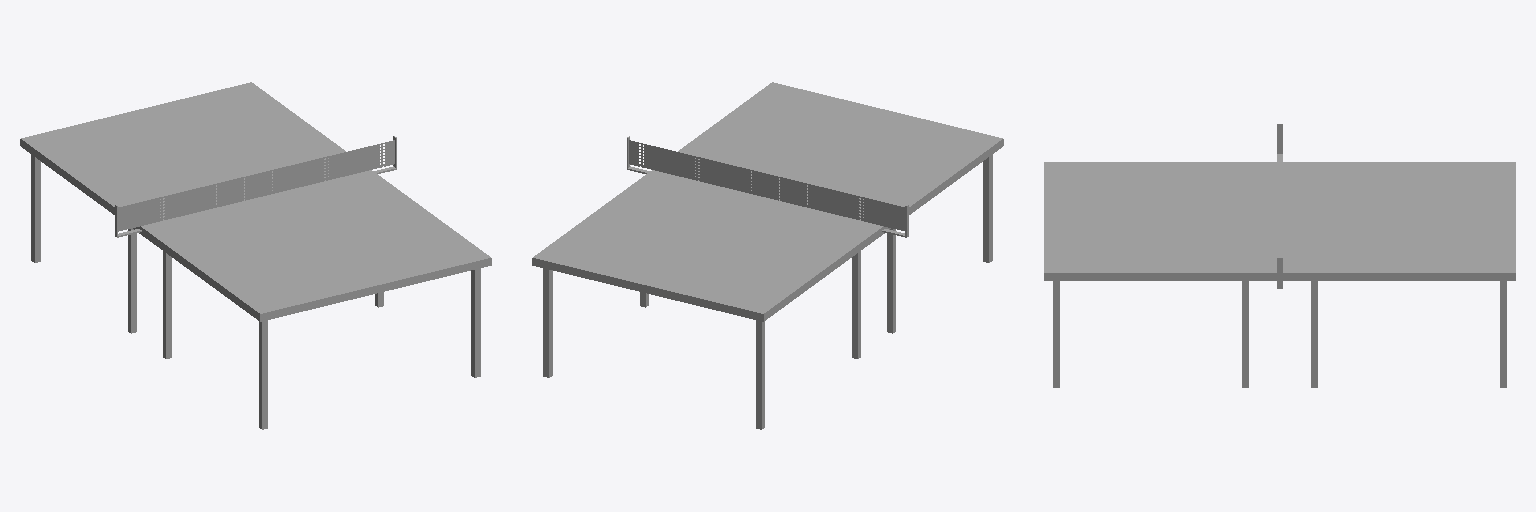
URDF robot description (table):
<?xml version="1.0" ?>
<robot name="table">
    <link name="baselink">
        <contact>
            <lateral_friction value="0.5"/>
            <spinning_friction value="0.6"/>
            <restitution value="0.95" />
        </contact>
        <inertial>
            <origin rpy="0 0 0" xyz="0 0 0"/>
            <mass value=".0"/>
            <inertia ixx="1" ixy="0" ixz="0" iyy="1" iyz="0" izz="1"/>
        </inertial>

        <visual>
            <origin rpy="0 0 0" xyz="0 0 0"/>
            <geometry>
                <mesh filename="meshes/table_tennis.obj" scale="1 1 1"/>
            </geometry>
            <material name="gray">
                <color rgba="0.7 0.7 0.7 1"/>
                <specular rgb="1 1 1"/>
            </material>
        </visual>
        <collision>
            <origin rpy="0 0 0" xyz="0 0 0"/>
            <geometry>
                <mesh filename="meshes/table_tennis.obj" scale="1 1 1"/>
            </geometry>
        </collision>
    </link>
</robot>

--- Render facts (derived) ---
Views: 3 orthographic renders of the robot side by side, from view 1: azimuth 30°, elevation 25°; view 2: azimuth 150°, elevation 25°; view 3: azimuth 270°, elevation 25°.
Model table with 1 links and 0 joints (none), rooted at baselink, posed every joint at zero.
Links seen in each view (by area): view 1: baselink; view 2: baselink; view 3: baselink.
Link boxes in pixels (x1,y1,x2,y2): baselink: [20, 82, 491, 429]; baselink: [532, 82, 1003, 429]; baselink: [1044, 124, 1515, 387].
Bounding box of the posed robot: 1.85 × 2.74 × 0.9299 m (x, y, z).
1 mesh visuals loaded from 1 distinct referenced files (1 OBJ).